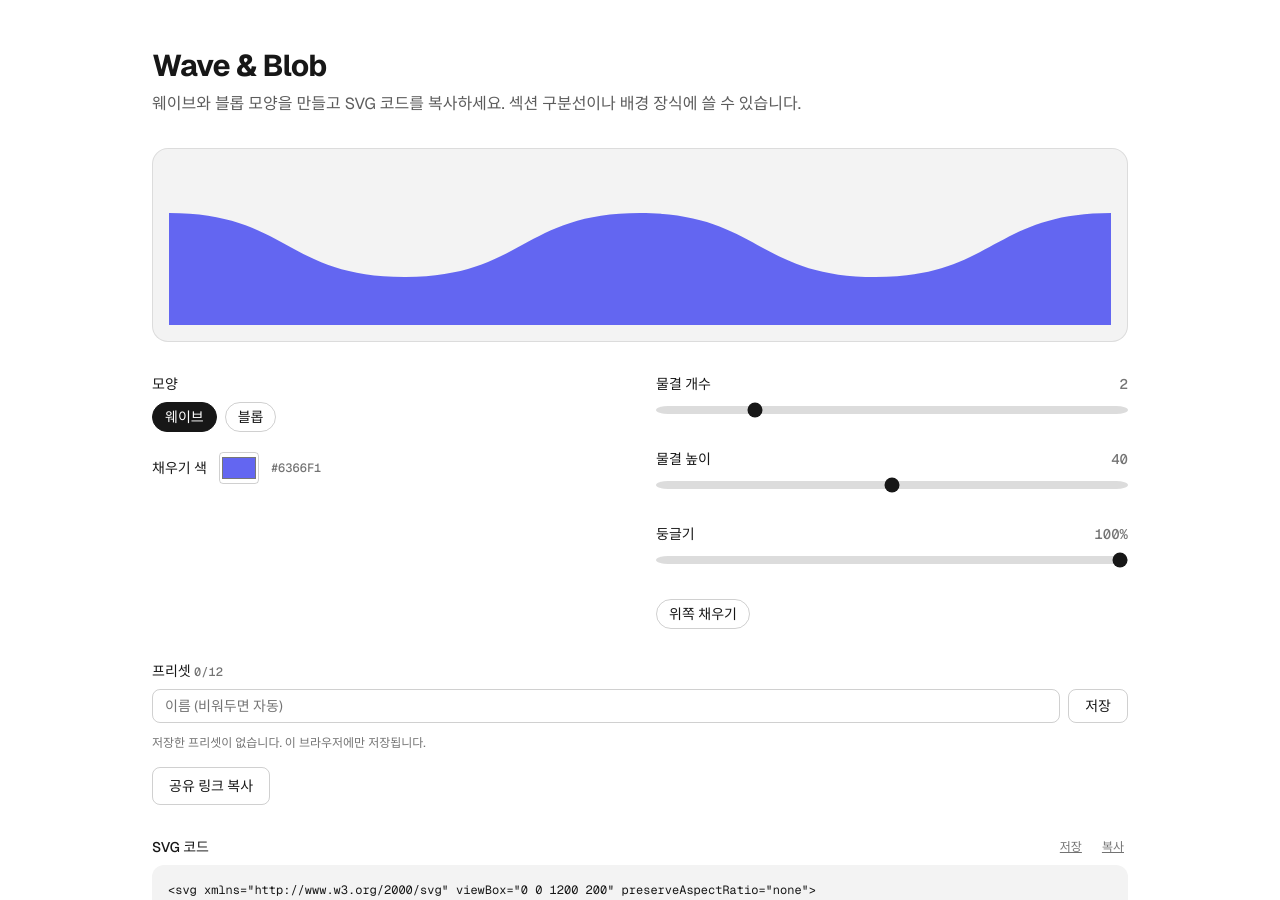
Test: SvgShapeMaker › 다시 뽑기는 시드를 바꾸고 모양도 바뀐다
The image size is (1280, 900).
Click the button "블롭": click(250, 417) [225,402,276,432]
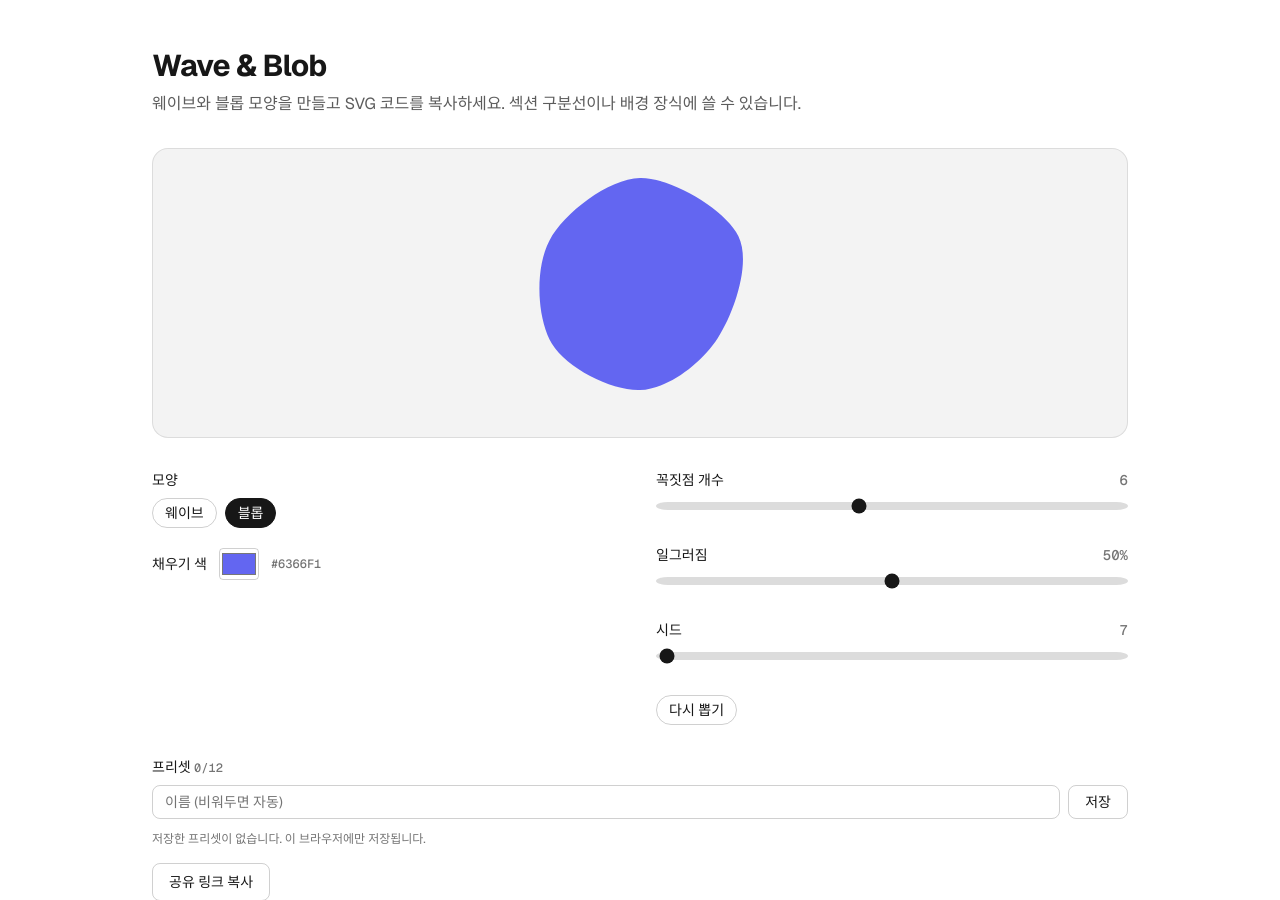
Click the button "다시 뽑기": click(696, 710) [656,695,737,725]
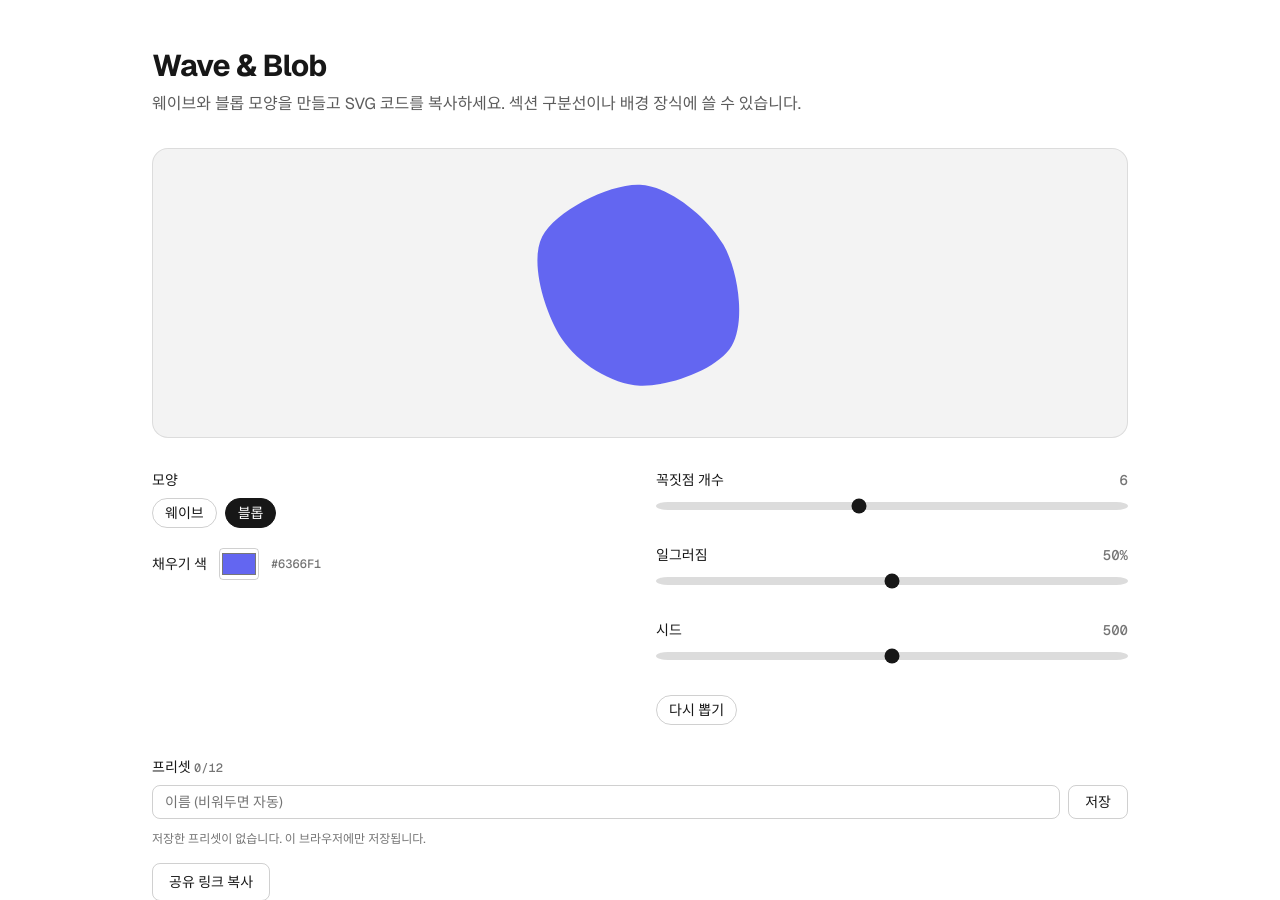
Result: the slider labelled "시드 500" holds "500" at [656,644,1128,668]
